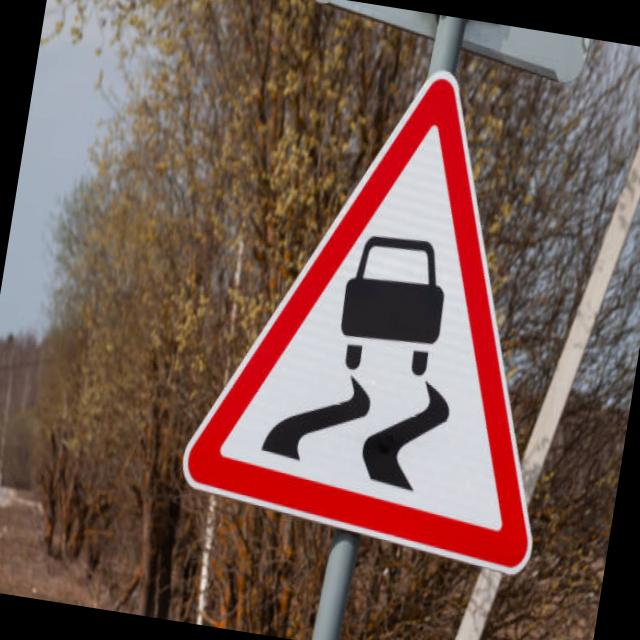road_slippery: (170, 39, 614, 588)
